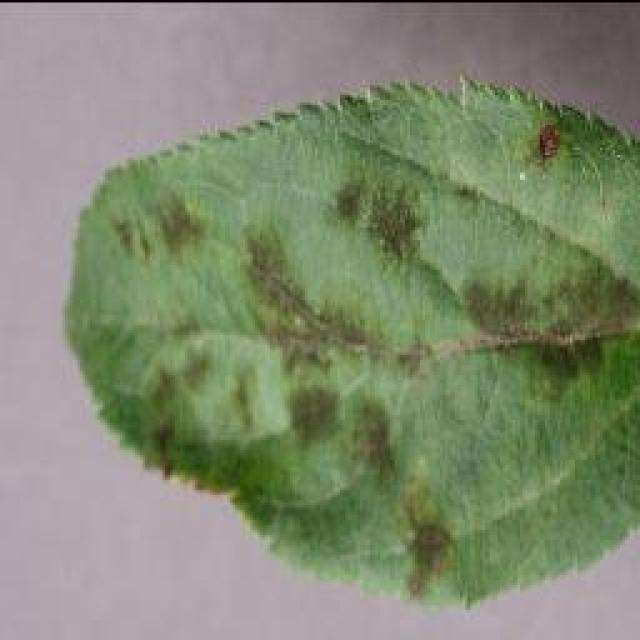apple scab disease: (60, 72, 638, 608)
